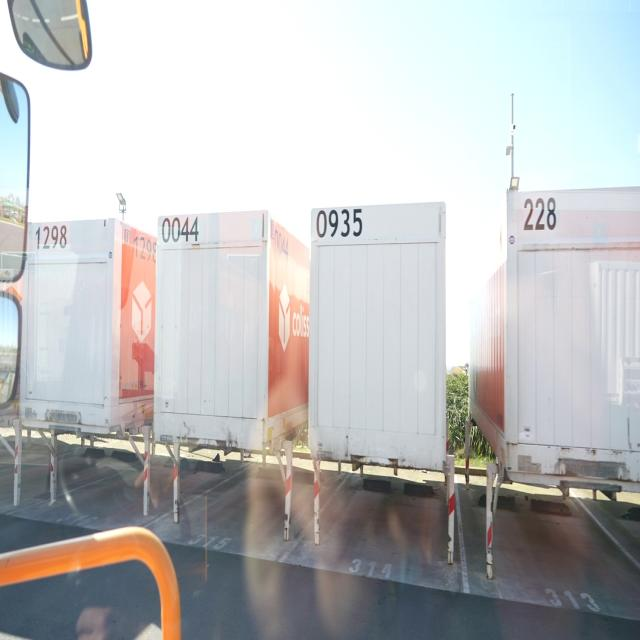Code: (317, 201, 364, 240), (519, 191, 557, 238), (160, 218, 203, 250), (129, 229, 158, 270), (32, 223, 70, 251)
